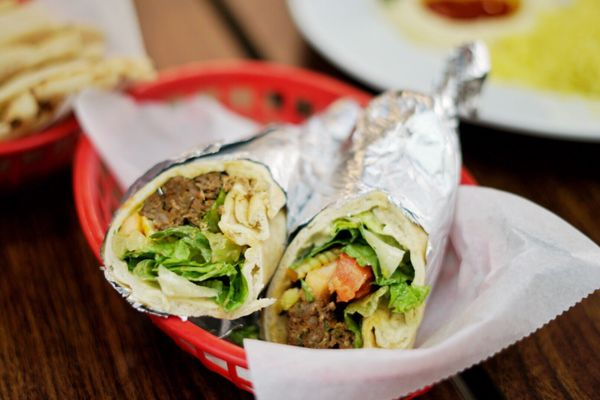soup: (265, 188, 433, 350)
sushi: (0, 3, 155, 196)
